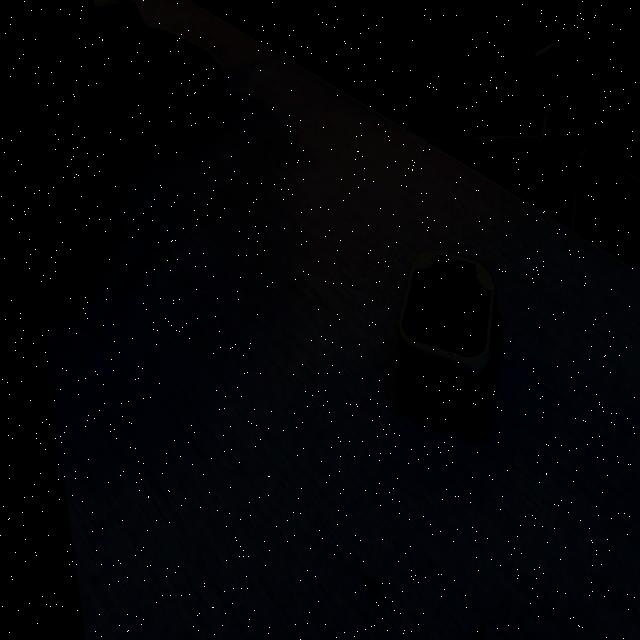adapter: (378, 249, 506, 438)
